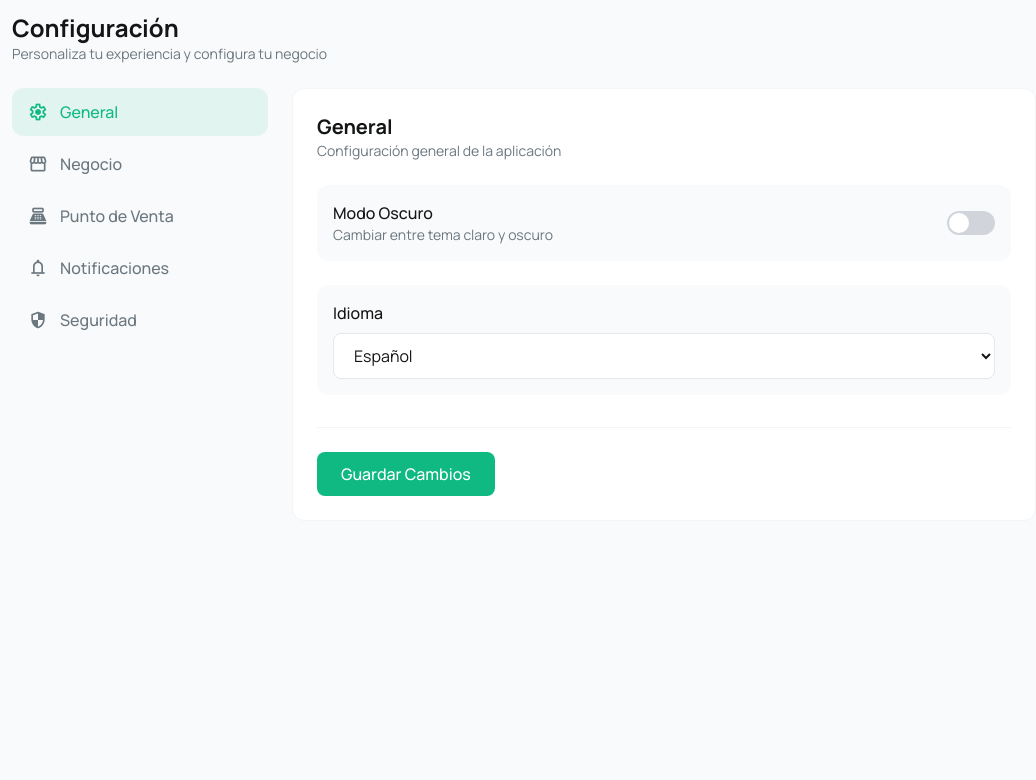
it: Configuracion › Section Navigation › should switch to Business section when clicked
Click the text "Negocio". click: coordinates (91, 164)
box: [60, 152, 122, 176]
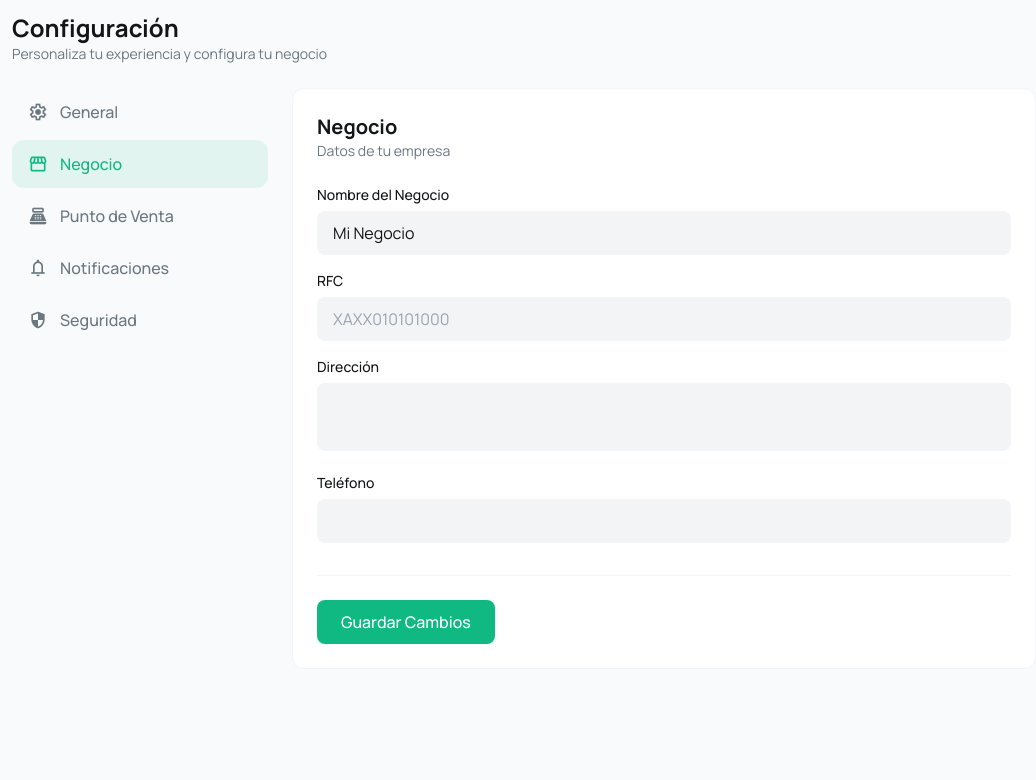
Expected: the text "Datos de tu empresa" is shown, [317, 141, 450, 160]
